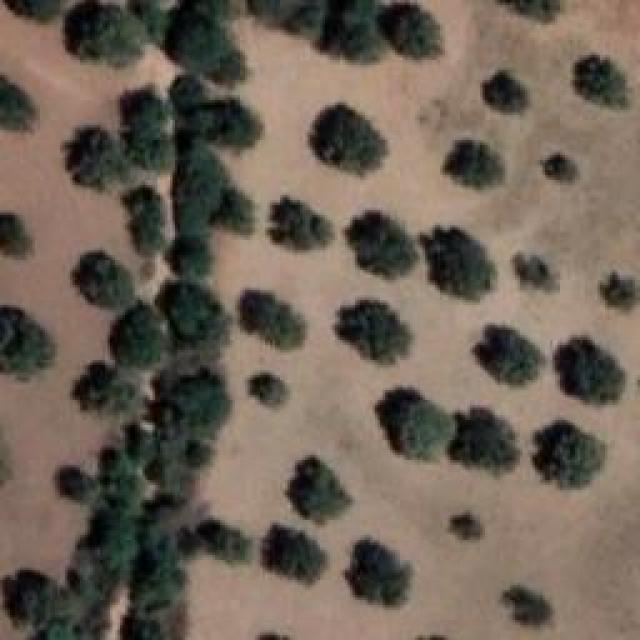Tree: (3, 570, 108, 640), (165, 0, 249, 86), (375, 390, 454, 461), (420, 228, 496, 301), (310, 105, 388, 175), (535, 420, 608, 488), (345, 213, 419, 280), (65, 5, 144, 67), (448, 408, 521, 474), (338, 300, 412, 365), (555, 338, 625, 405), (345, 538, 411, 606), (288, 458, 354, 525), (472, 325, 540, 385), (65, 128, 130, 190), (0, 308, 55, 380), (110, 300, 169, 367), (320, 0, 383, 62), (263, 523, 327, 584), (243, 290, 307, 351), (73, 250, 136, 308), (378, 5, 443, 60), (268, 195, 332, 250), (200, 100, 263, 147), (445, 140, 504, 188), (578, 58, 627, 109), (120, 85, 171, 132), (73, 363, 118, 411), (200, 520, 250, 563), (0, 75, 36, 131), (505, 585, 554, 626), (483, 73, 528, 114), (120, 183, 164, 224), (215, 185, 256, 229), (165, 240, 210, 278), (130, 128, 167, 171), (600, 270, 638, 311), (515, 255, 558, 290), (0, 212, 31, 257), (500, 0, 561, 22), (125, 220, 162, 255), (250, 373, 289, 406), (3, 0, 61, 22), (120, 423, 155, 459), (60, 467, 94, 502), (543, 152, 578, 182), (450, 513, 483, 539)
